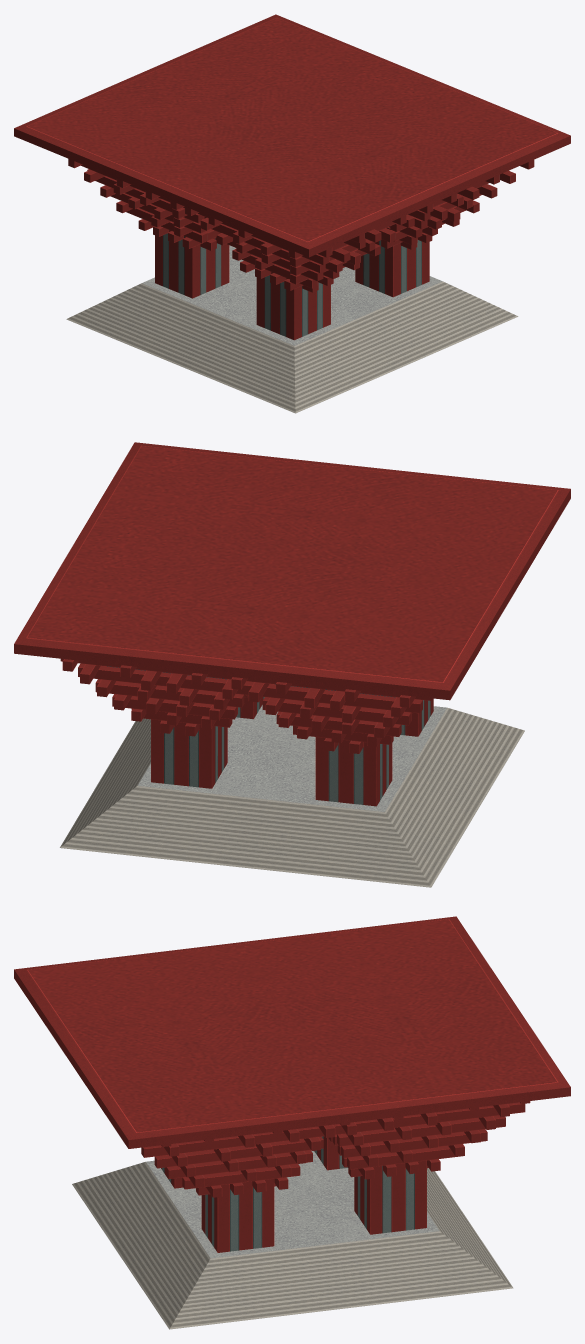
Rendered from China_track_landmark_01.dae.
3 renders of one model, top to bottom at view 1: azimuth 30°, elevation 25°; view 2: azimuth 150°, elevation 25°; view 3: azimuth 270°, elevation 25°, orthographic. The views are drawn at different scales.
Visible parts, largest first — view 1: China_track_landmark_01; view 2: China_track_landmark_01; view 3: China_track_landmark_01.
Part boxes in pixels (x1,y1,x2,y2): China_track_landmark_01: (14,14,570,413); China_track_landmark_01: (14,442,570,887); China_track_landmark_01: (14,916,570,1329).
Size of the model in its own units: 5.6 by 5.9 by 2.46.
Materials: 2 (2 with a texture image).
